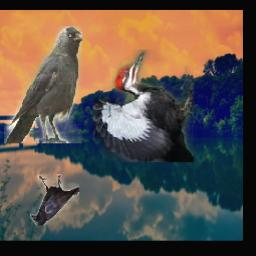Crow: (4, 26, 82, 143), (31, 175, 80, 226)
Woodpecker: (93, 50, 195, 163)
